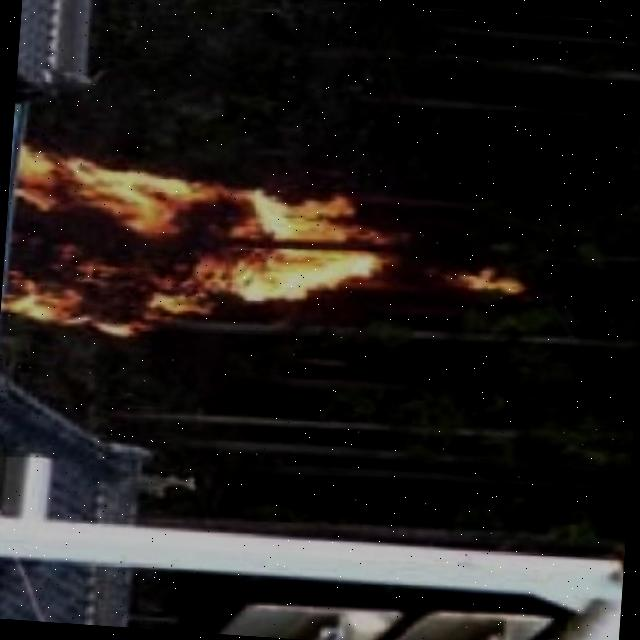fire: (0, 124, 406, 367), (422, 242, 546, 311)
